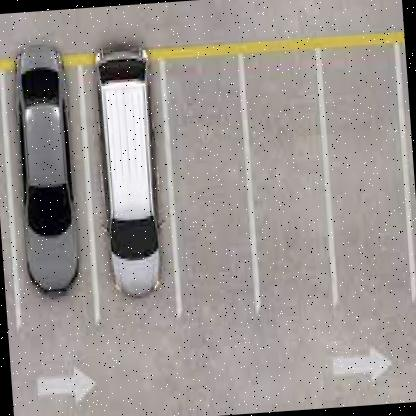Car: (90, 30, 170, 300), (11, 41, 83, 302)
Empty: (164, 55, 258, 318), (322, 44, 411, 310), (244, 52, 334, 312)
